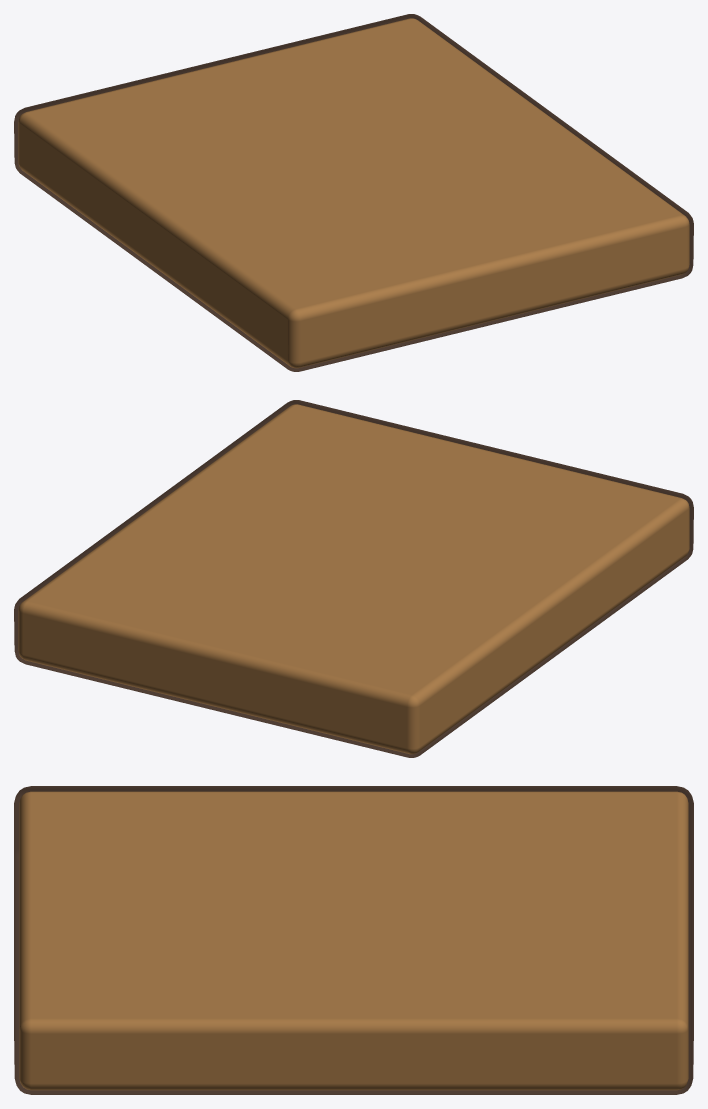
The model's file is prop_40019.glb.
3 views of the same model, one above another, from view 1: azimuth 30°, elevation 25°; view 2: azimuth 150°, elevation 25°; view 3: azimuth 270°, elevation 25° (orthographic). The views are drawn at different scales.
Parts seen in each view (by area): view 1: prop_40019; view 2: prop_40019; view 3: prop_40019.
Boxes of the visible parts, x1=… form: prop_40019: x1=14, y1=14, x2=693, y2=371; prop_40019: x1=14, y1=400, x2=693, y2=757; prop_40019: x1=14, y1=786, x2=693, y2=1094.
Size of the model in its own units: 0.6939 by 0.1076 by 0.83.
